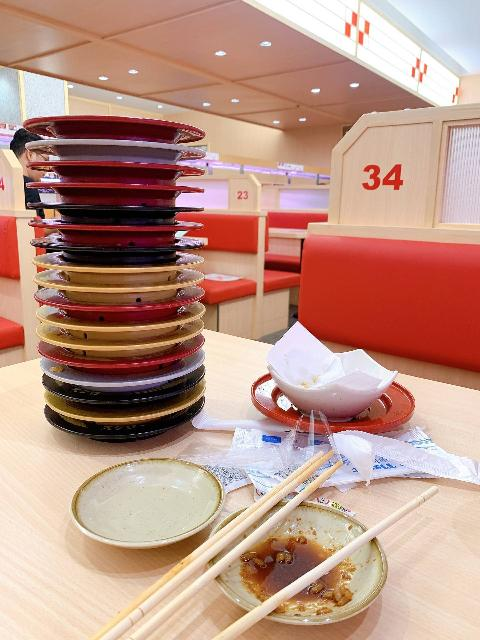janback: (36, 415, 190, 441), (32, 237, 207, 256), (26, 201, 197, 220), (43, 385, 175, 403)
jangold: (32, 276, 202, 299), (49, 398, 199, 423), (30, 313, 201, 333), (33, 255, 201, 275), (30, 333, 203, 351)
janred: (239, 338, 413, 438), (18, 111, 209, 138), (25, 215, 195, 237), (28, 177, 205, 198), (34, 162, 196, 183), (30, 297, 202, 313), (38, 351, 200, 365)
janwhite: (26, 136, 212, 164), (38, 368, 189, 386)
